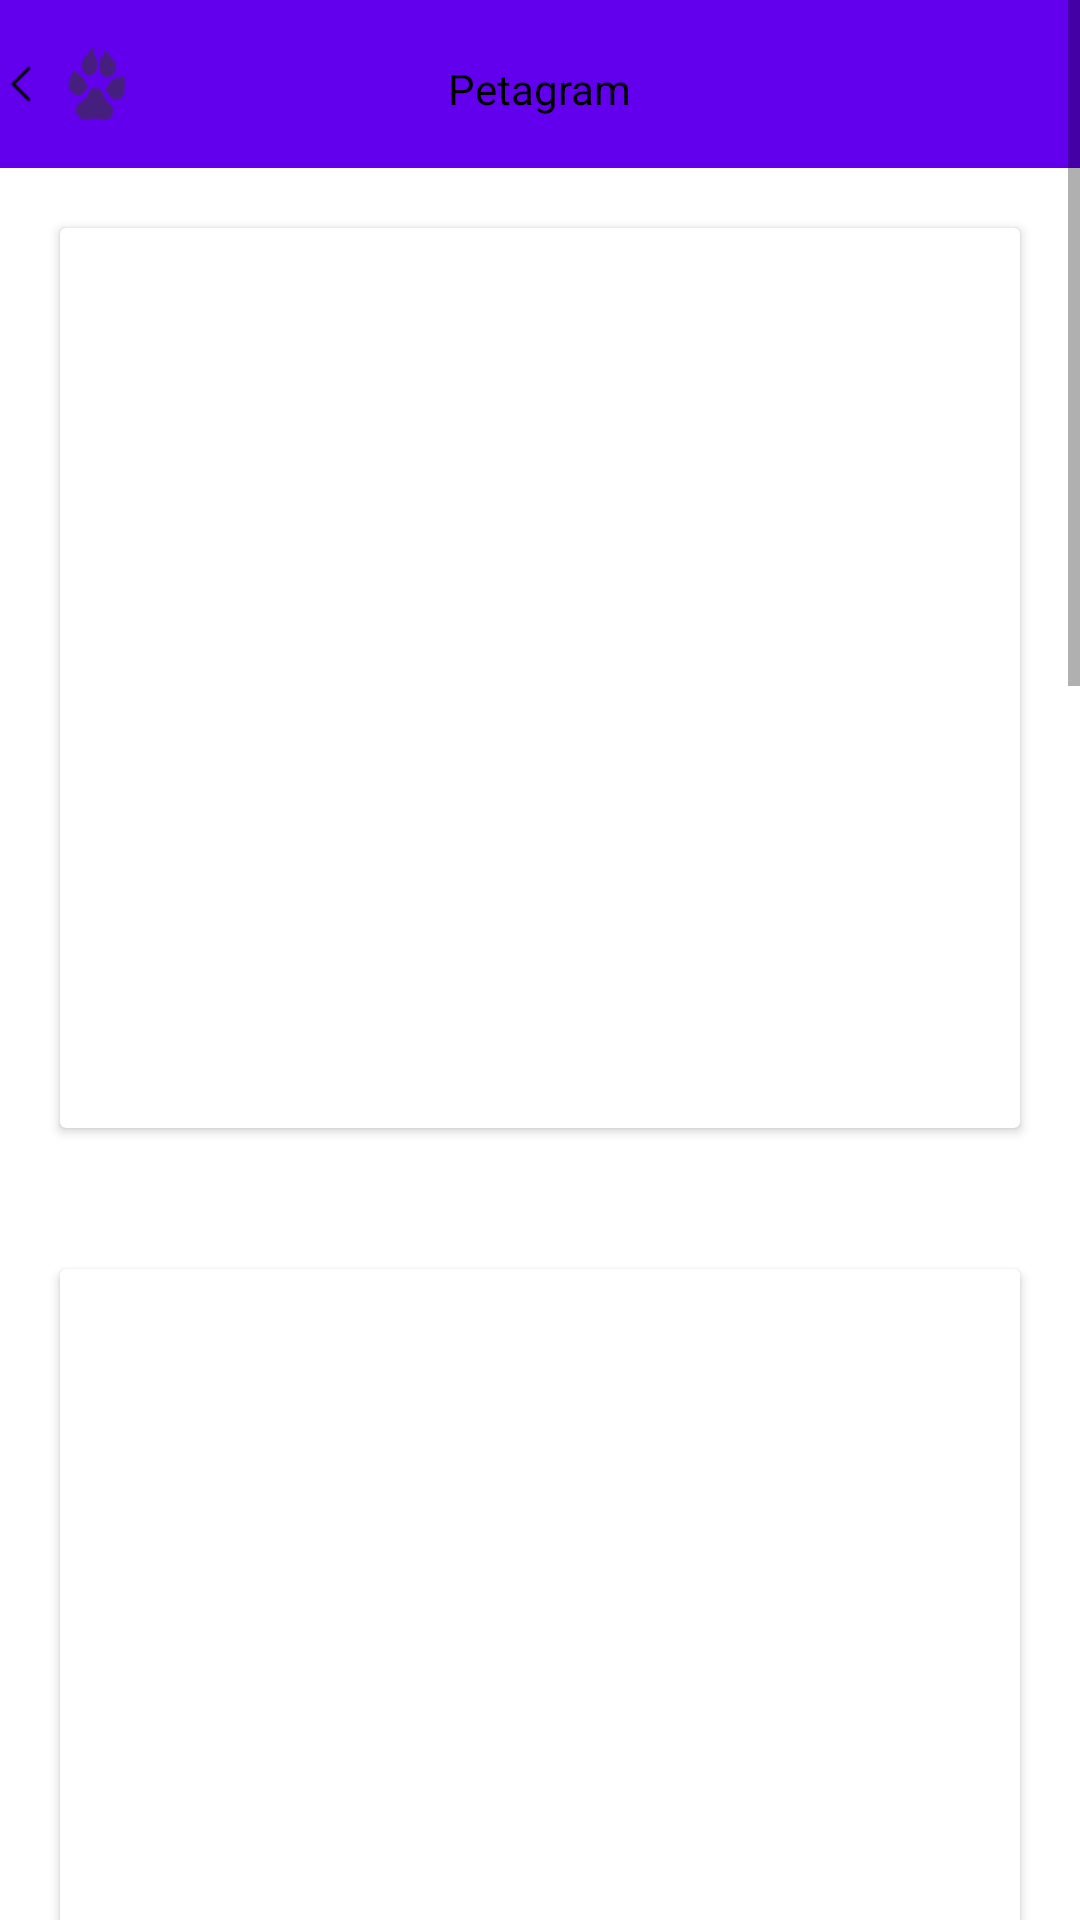

Icon bounding boxes for this 1080px×1920px phone screenshot, format BBox(x1, y1, x2, y2):
back: BBox(11, 66, 31, 102)
dog pow: BBox(68, 48, 125, 120)
